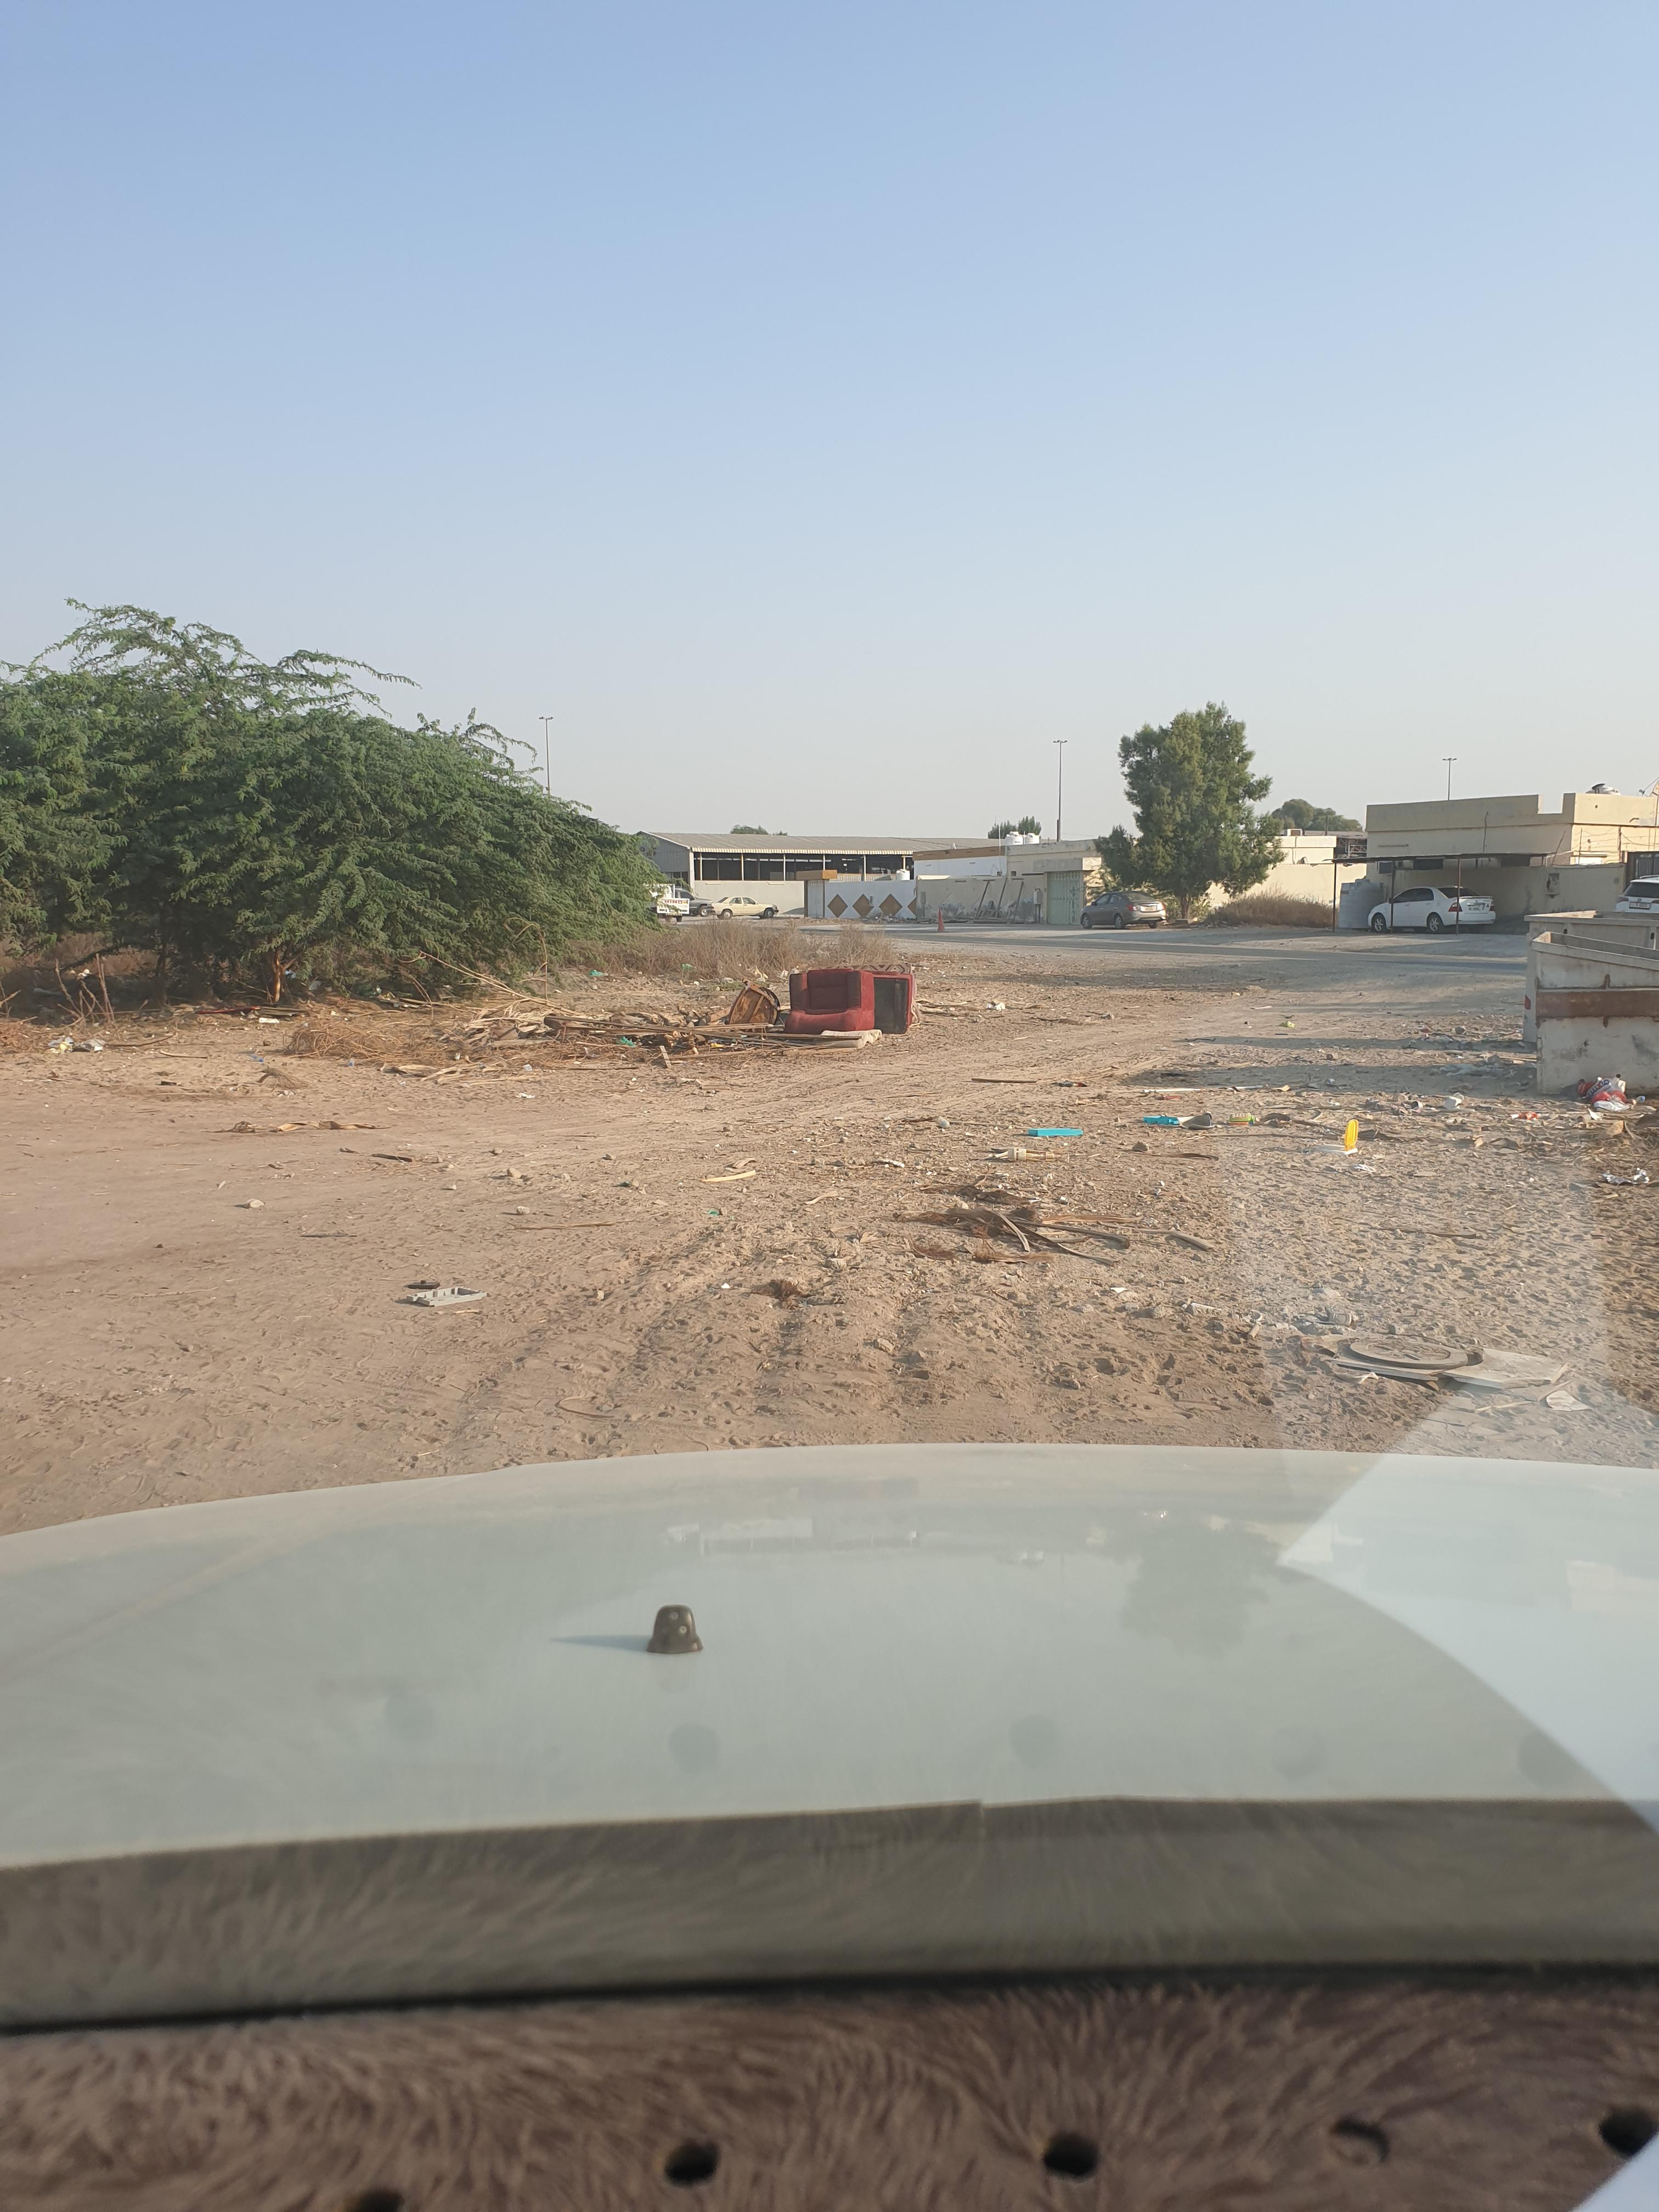fallen_trees: (892, 1144, 1112, 1299), (260, 1028, 716, 1087)
